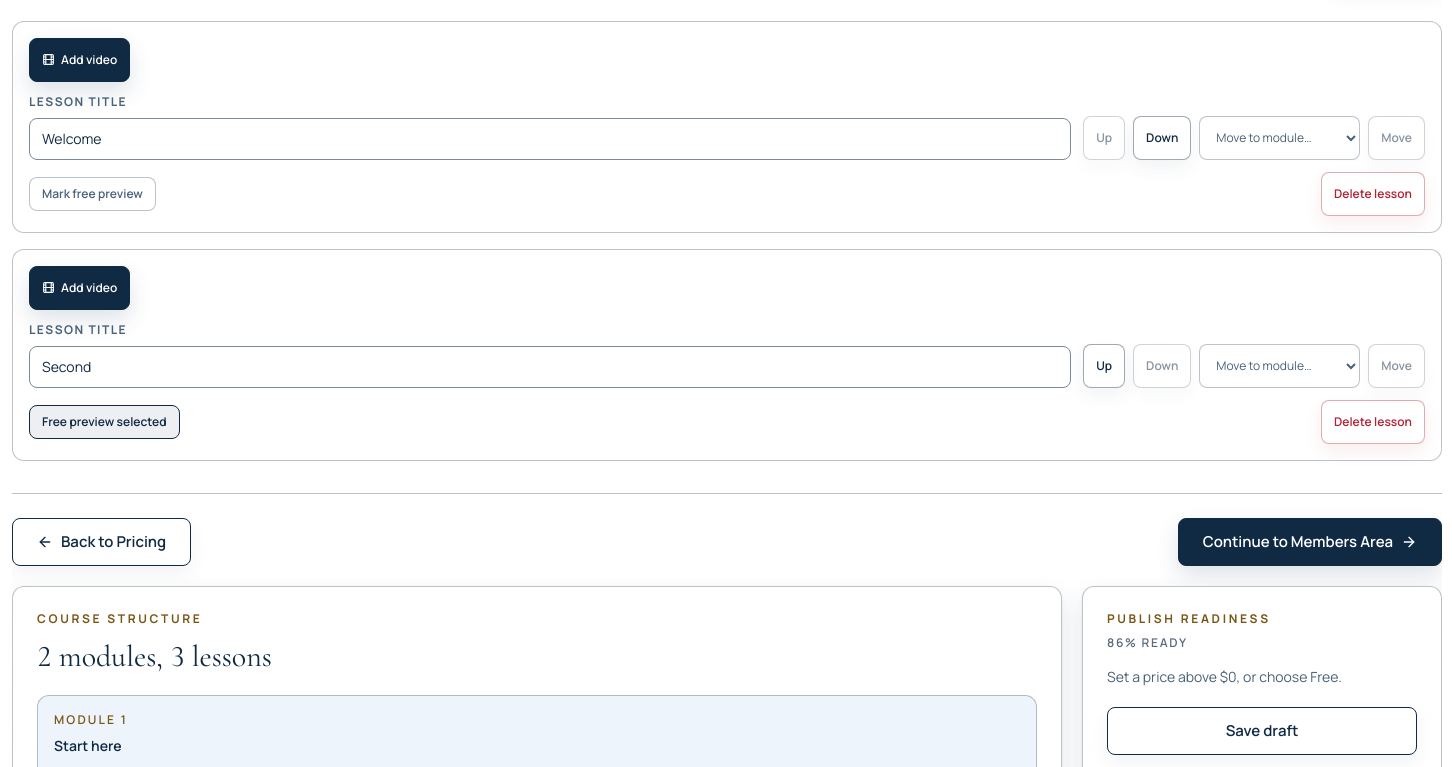
Test: mover a aula entre modulos › a regiao de aviso existe antes do primeiro mover, e so o texto muda
The image size is (1452, 767).
(page scrolled)
Select "Module 2: Deep work" in the dropdown named "Move \"Second\" to another module" at (1280, 366), box [1199,344,1360,388]
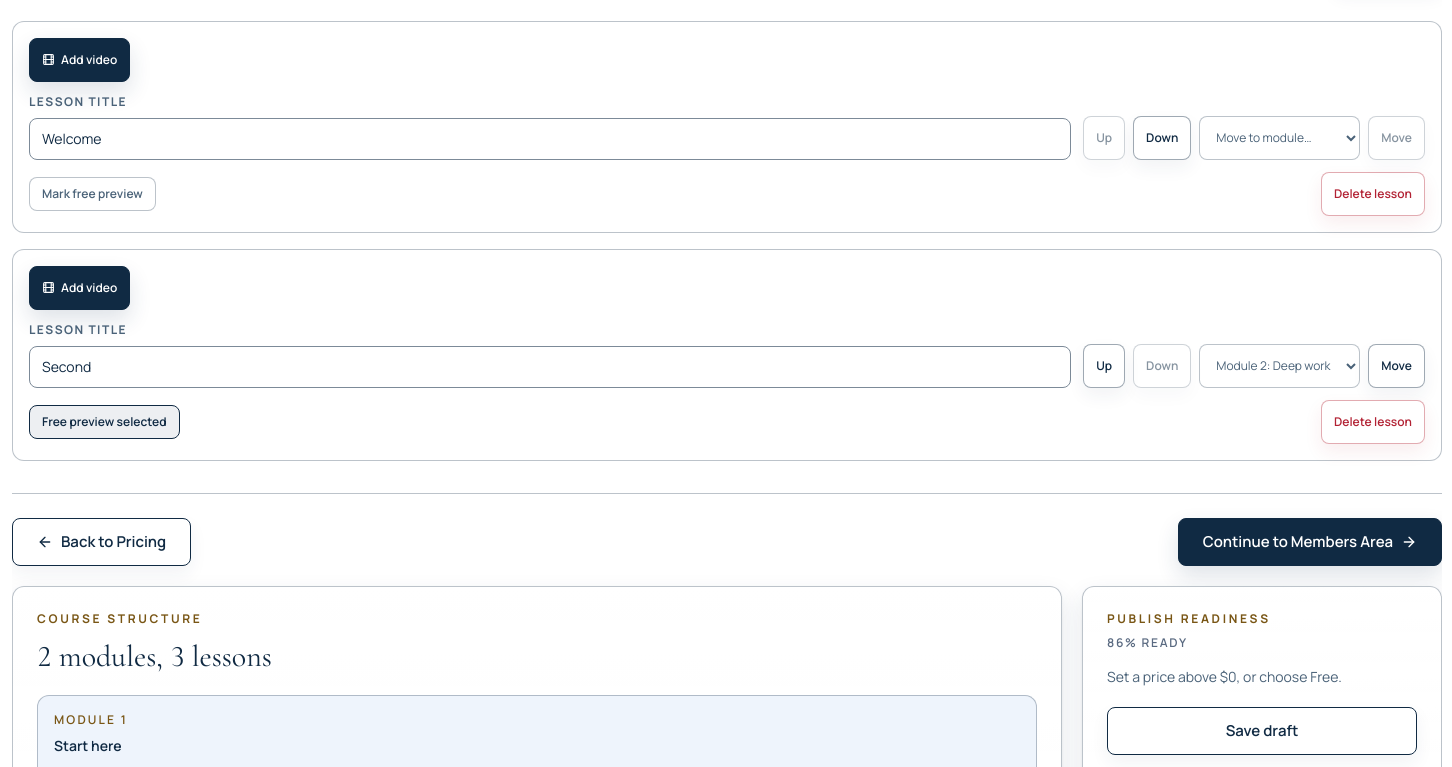
Click the button named "Move \"Second\"".
click(1397, 366)  # box [1368,344,1425,388]
(page scrolled)
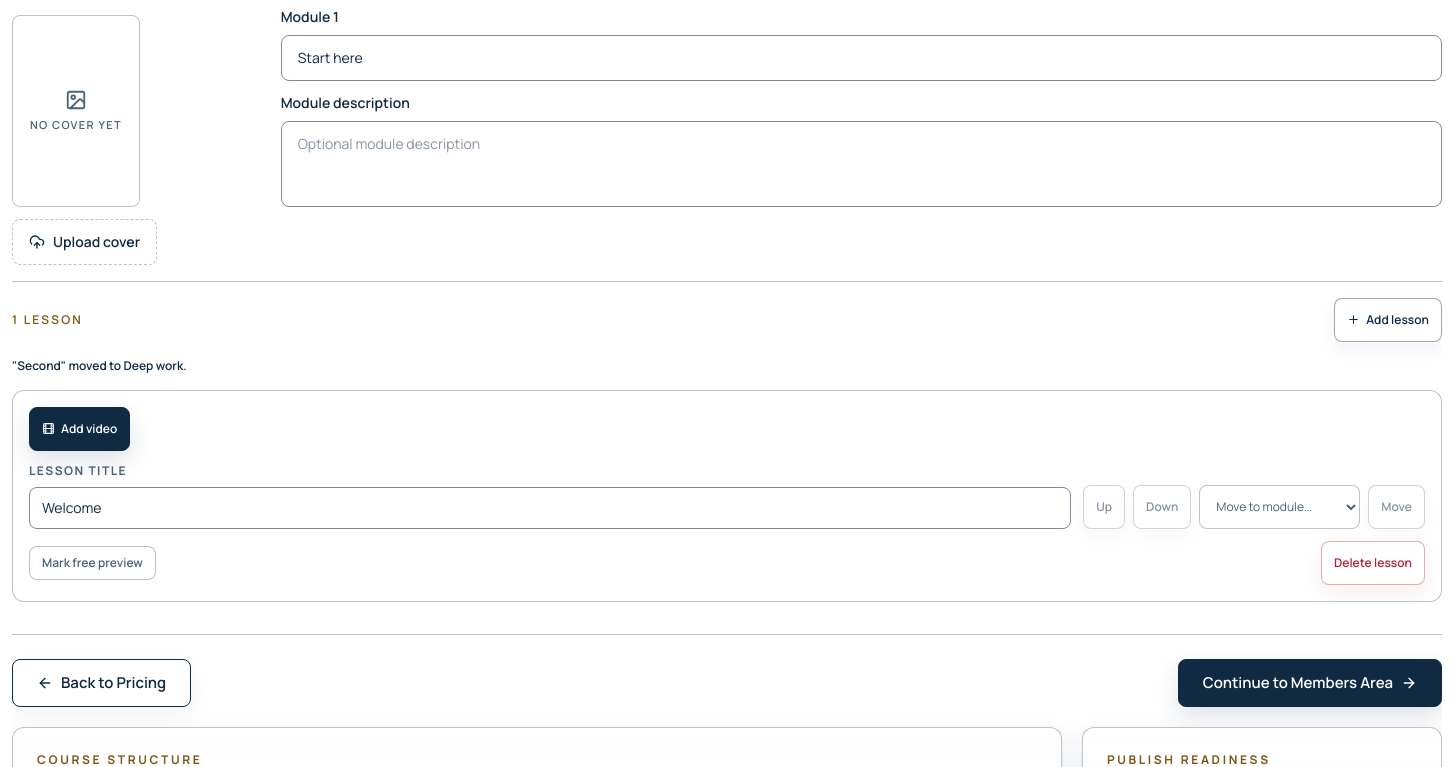
Expected: the message reads "\"Second\" moved to Deep work.", [12,357,187,374]
